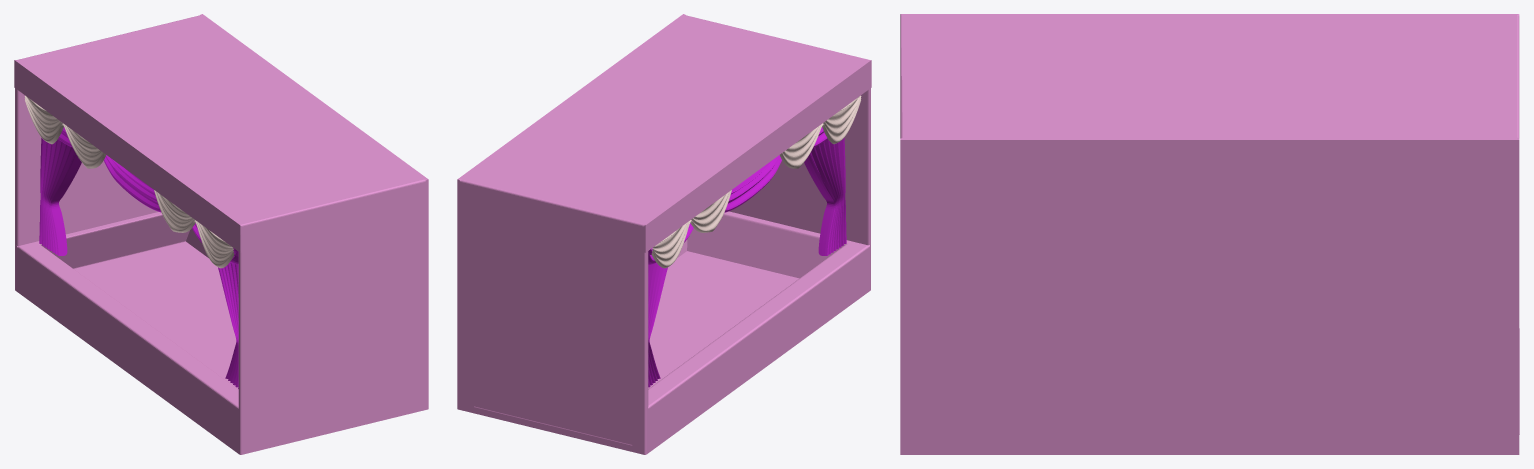
The model's file is Tent.fbx.
The picture shows the model from 3 angles, left to right: view 1: azimuth 30°, elevation 25°; view 2: azimuth 150°, elevation 25°; view 3: azimuth 270°, elevation 25°; orthographic projection. The views are drawn at different scales.
Parts seen in each view (by area): view 1: Cube, Plane, Plane.003, Plane.002; view 2: Cube, Plane, Plane.003, Plane.002; view 3: Cube.
Part boxes in pixels (bbox=[...]): Cube: bbox=[14, 14, 428, 454]; Plane: bbox=[39, 137, 238, 388]; Plane.003: bbox=[24, 95, 234, 268]; Plane.002: bbox=[58, 127, 238, 264]; Cube: bbox=[457, 14, 871, 454]; Plane: bbox=[648, 137, 846, 387]; Plane.003: bbox=[651, 95, 861, 268]; Plane.002: bbox=[648, 127, 827, 264]; Cube: bbox=[900, 14, 1519, 454].
Bounding box in the file's own units: 838 × 978 × 1742.
